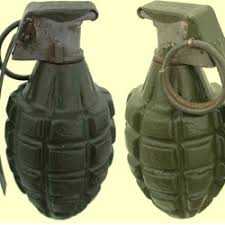e1: (1, 2, 116, 220), (124, 1, 224, 219)
